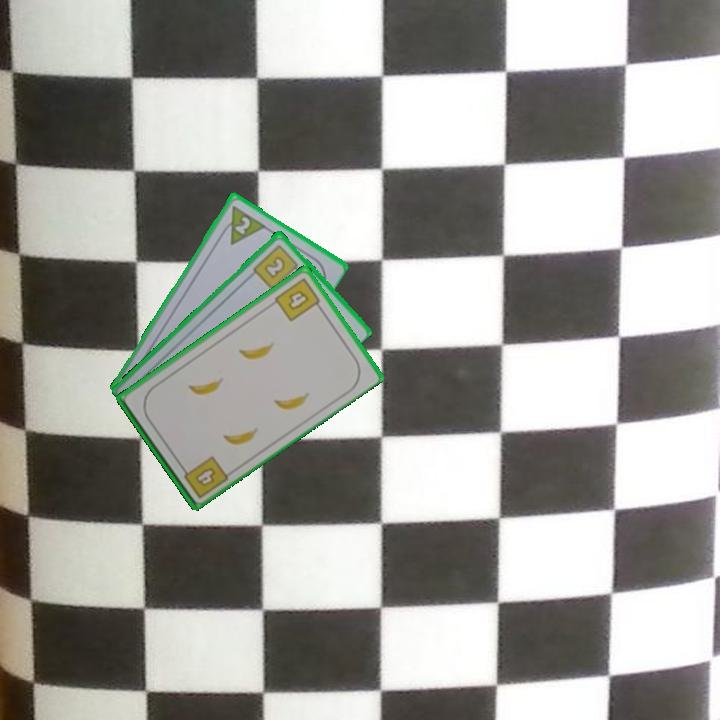2b: (249, 241, 304, 292)
2p: (215, 201, 268, 248)
4b: (271, 274, 325, 324), (177, 452, 231, 501)
